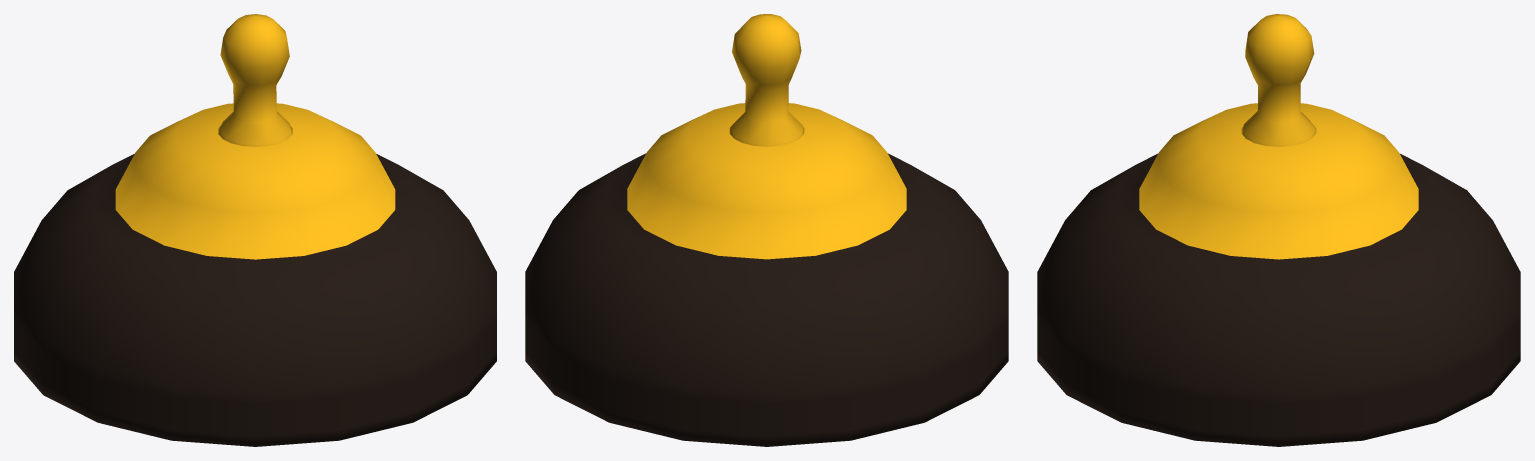
File: Whole Switch.fbx
The picture shows the model from 3 angles, left to right: view 1: azimuth 30°, elevation 25°; view 2: azimuth 150°, elevation 25°; view 3: azimuth 270°, elevation 25°; orthographic projection.
Visible parts, largest first — view 1: Cylinder001, Sphere001; view 2: Cylinder001, Sphere001; view 3: Cylinder001, Sphere001.
Boxes of the visible parts, <box> form: Cylinder001: <box>14,103,496,446</box>; Sphere001: <box>218,14,291,146</box>; Cylinder001: <box>525,103,1008,446</box>; Sphere001: <box>729,14,804,146</box>; Cylinder001: <box>1037,103,1520,446</box>; Sphere001: <box>1242,14,1316,146</box>.
Size of the model in its own units: 97.44 by 71.56 by 95.96.
